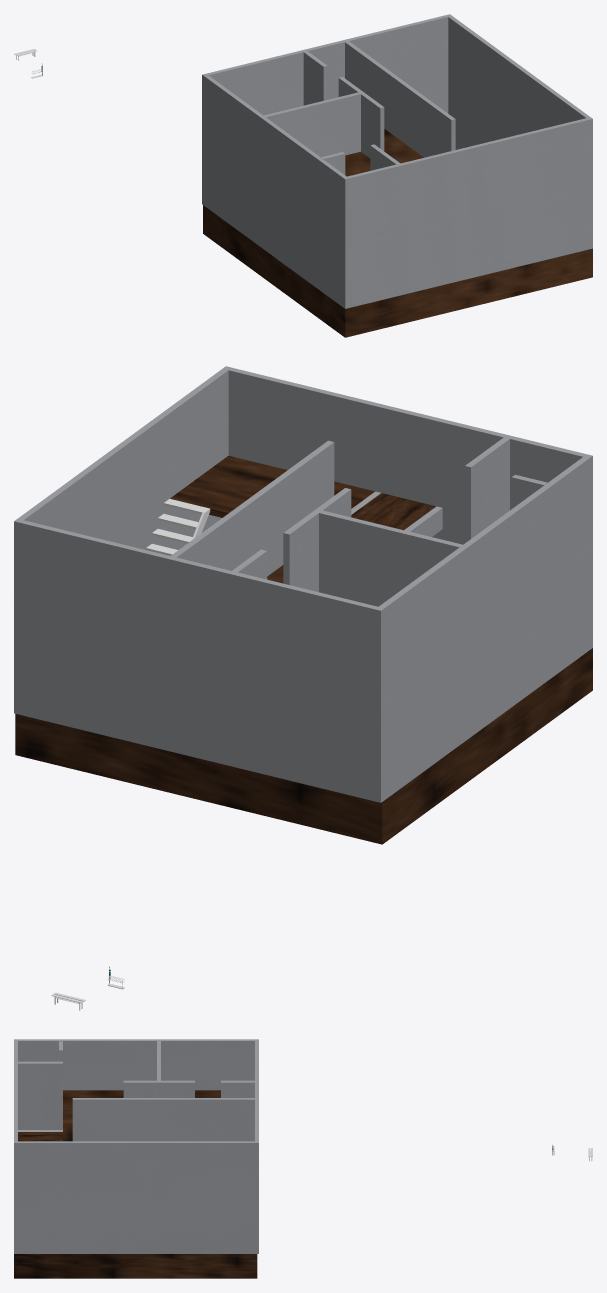
The picture shows the model from 3 angles, top to bottom: view 1: azimuth 30°, elevation 25°; view 2: azimuth 150°, elevation 25°; view 3: azimuth 270°, elevation 25°; orthographic projection. The views are drawn at different scales.
Visible parts, largest first — view 1: 立方体.020, 立方体, 立方体.004, 立方体.017, 立方体.003, 立方体.014, 立方体.029, 立方体.019, 立方体.016, 立方体.015, 立方体.007, 立方体.024 (+5 smaller); view 2: 立方体.016, 立方体, 立方体.019, 立方体.017, 立方体.001, 立方体.003, 立方体.004, 立方体.020, 立方体.007, 立方体.029, 立方体.024, 立方体.015 (+6 smaller); view 3: 立方体.004, 立方体.017, 立方体.029, 立方体, 立方体.030, 立方体.007, 立方体.016, 立方体.020, 立方体.012, 立方体.021, _mixer_rename_conflict_6817c35f-9063-4ab5-867b-62516cee112c..
Boxes of the visible parts, x1,y1,x2,y2 form: 立方体.020: [483, 117, 592, 274]; 立方体: [203, 205, 592, 337]; 立方体.004: [448, 16, 590, 149]; 立方体.017: [204, 75, 346, 234]; 立方体.003: [204, 149, 342, 306]; 立方体.014: [397, 152, 448, 295]; 立方体.029: [345, 41, 455, 157]; 立方体.019: [202, 40, 344, 133]; 立方体.016: [343, 14, 451, 113]; 立方体.015: [446, 143, 485, 283]; 立方体.007: [202, 129, 423, 251]; 立方体.024: [264, 91, 364, 157]; 立方体.016: [14, 518, 176, 751]; 立方体: [15, 648, 592, 844]; 立方体.019: [173, 557, 384, 695]; 立方体.017: [379, 457, 589, 693]; 立方体.001: [173, 667, 384, 802]; 立方体.003: [384, 565, 589, 799]; 立方体.004: [18, 369, 228, 549]; 立方体.020: [222, 366, 384, 492]; 立方体.007: [173, 493, 592, 717]; 立方体.029: [171, 440, 334, 575]; 立方体.024: [313, 509, 462, 606]; 立方体.015: [381, 405, 439, 537]; 立方体.004: [18, 1141, 254, 1253]; 立方体.017: [18, 1039, 254, 1090]; 立方体.029: [72, 1098, 254, 1141]; 立方体: [14, 1254, 257, 1278]; 立方体.030: [18, 1061, 62, 1129]; 立方体.007: [18, 1090, 220, 1141]; 立方体.016: [255, 1098, 258, 1253]; 立方体.020: [14, 1098, 17, 1253]; 立方体.012: [161, 1080, 194, 1097]; 立方体.021: [221, 1080, 254, 1097]; _mixer_rename_conflict_6817c35f-9063-4ab5-867b-62516cee112c.: [123, 1080, 156, 1097].
Bounding box in the file's own units: 1800 × 1100 × 4254.
Materials: 9 (7 with a texture image).
